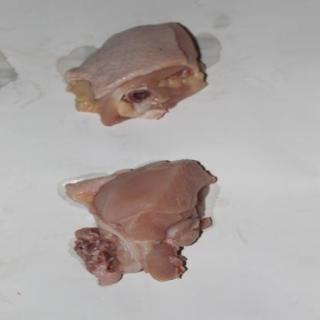Ayam: (71, 160, 213, 284), (71, 25, 209, 123)
